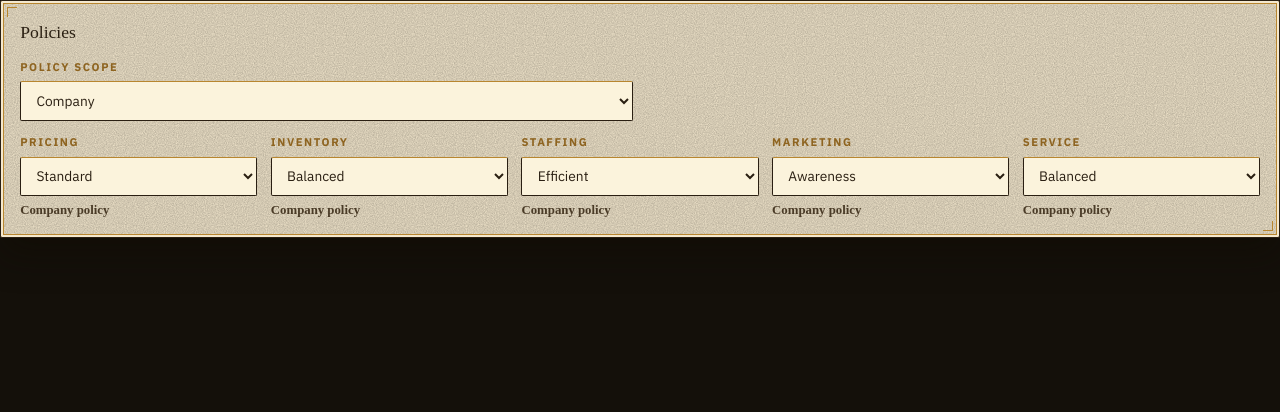
Test: PolicyPanel › updates the city target when selecting a different city
Select "City" in the dropdown labelled "Policy scope": [327, 101] box [20, 81, 633, 121]
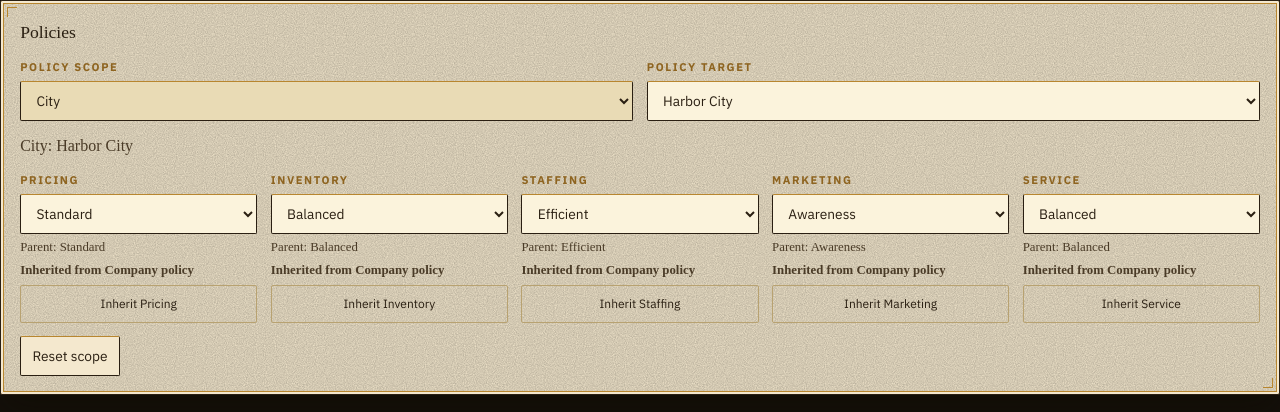
Select "Campus Junction" in the dropdown labelled "Policy target": [953, 101] box [647, 81, 1260, 121]
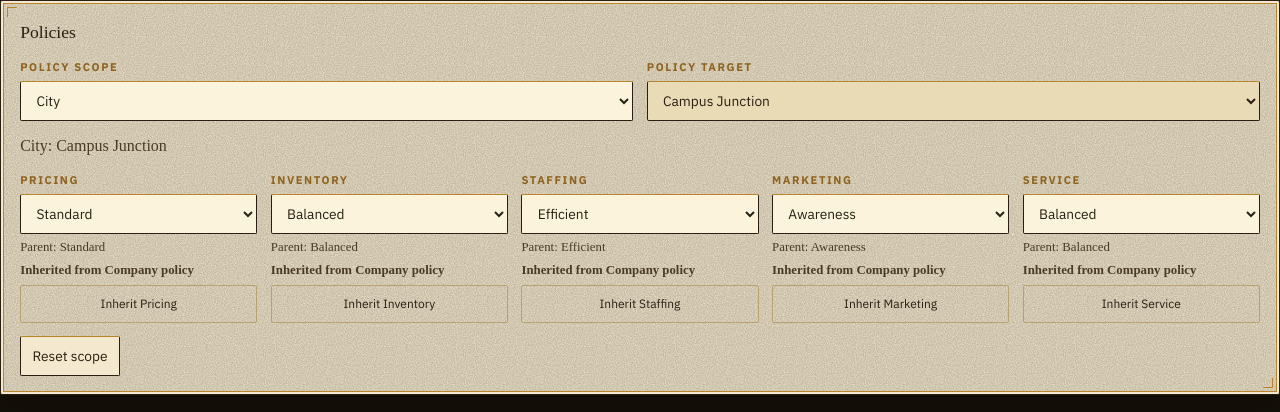
Result: the text "City: Campus Junction" is shown at [20, 137, 167, 154]
